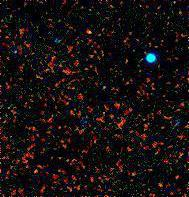star: (73, 19, 103, 49)
